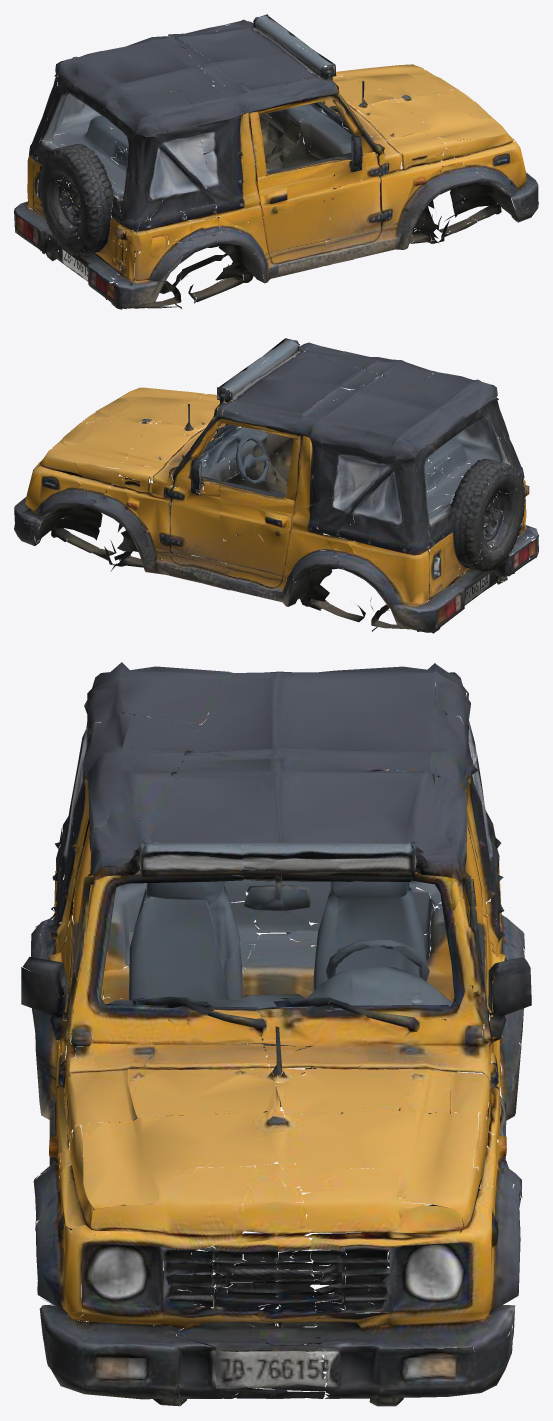
The model's file is samurai.glb.
3 renders of one model, top to bottom at view 1: azimuth 30°, elevation 25°; view 2: azimuth 150°, elevation 25°; view 3: azimuth 270°, elevation 25°, orthographic. The views are drawn at different scales.
Parts seen in each view (by area): view 1: V_BODY; view 2: V_BODY; view 3: V_BODY.
Part boxes in pixels (x1=…): V_BODY: x1=14, y1=14, x2=538, y2=309; V_BODY: x1=14, y1=338, x2=538, y2=633; V_BODY: x1=21, y1=662, x2=531, y2=1406.
Size of the model in its own units: 3.5 by 1.61 by 1.77.
Materials: 1 (1 with a texture image).
